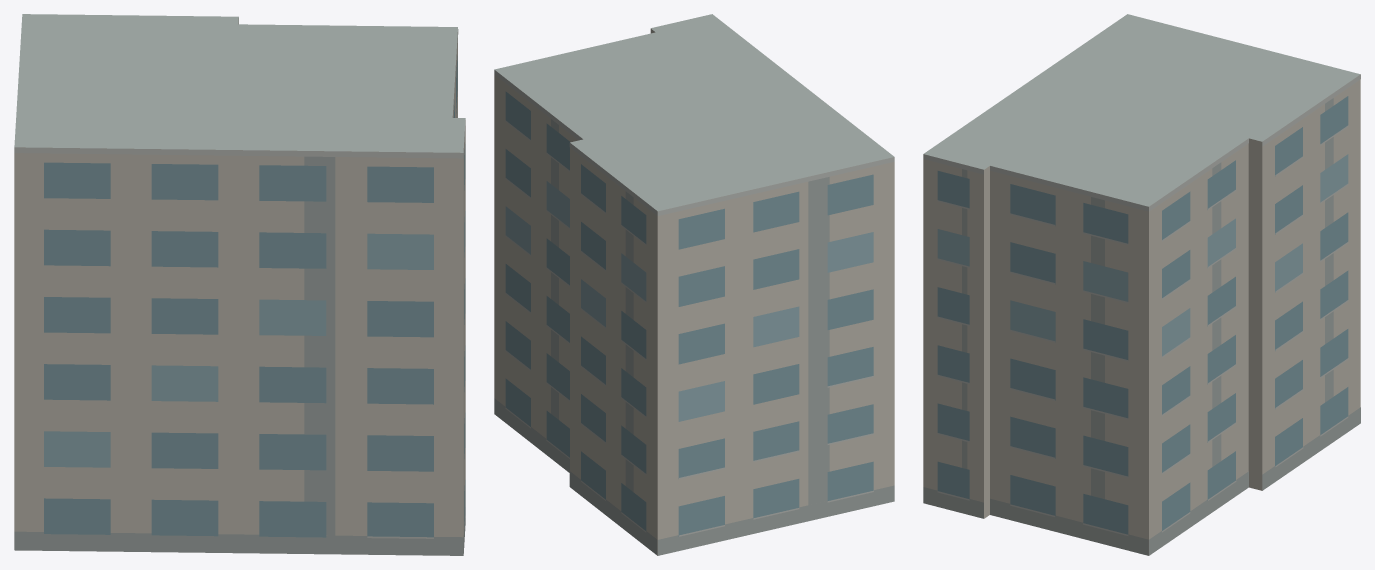
Rendered from survey-upis-32794750.glb.
The picture shows the model from 3 angles, left to right: view 1: azimuth 30°, elevation 25°; view 2: azimuth 150°, elevation 25°; view 3: azimuth 270°, elevation 25°; orthographic projection. The views are drawn at different scales.
Visible parts, largest first — view 1: survey-upis-32794750.tmp; view 2: survey-upis-32794750.tmp; view 3: survey-upis-32794750.tmp.
Part boxes in pixels (x1,y1,x2,y2): survey-upis-32794750.tmp: (14,14,465,555); survey-upis-32794750.tmp: (494,14,894,555); survey-upis-32794750.tmp: (923,14,1360,555).
Size of the model in its own units: 20.38 by 17.2 by 19.54.
